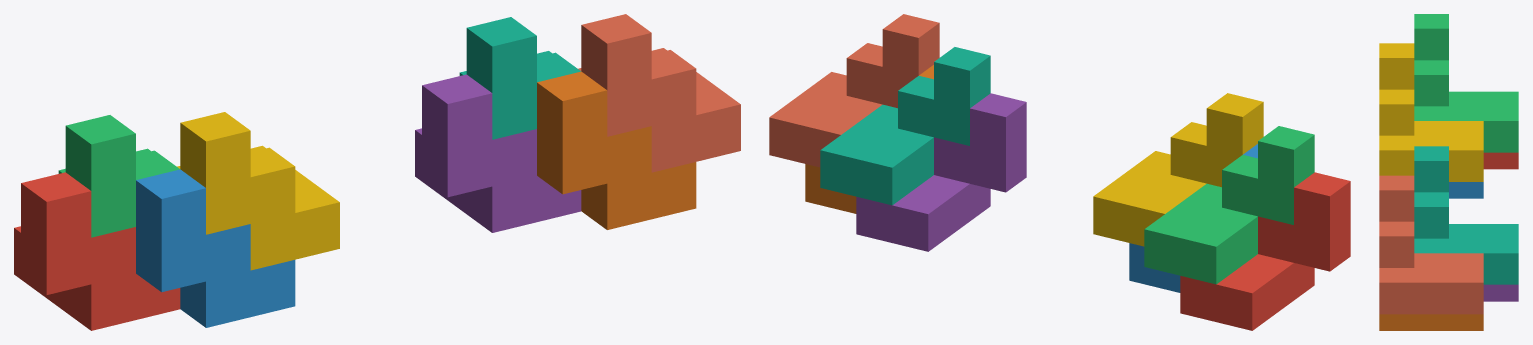
The model's file is tiling.obj.
3 renders of one model, left to right at view 1: azimuth 30°, elevation 25°; view 2: azimuth 150°, elevation 25°; view 3: azimuth 270°, elevation 25°, orthographic. The views are drawn at different scales.
Parts seen in each view (by area): view 1: copy_1_domain_6, copy_1_domain_2, copy_1_domain_1, copy_1_domain_5, copy_1_domain_8, copy_1_domain_4, copy_1_domain_7, copy_1_domain_3; view 2: copy_1_domain_7, copy_1_domain_3, copy_1_domain_5, copy_1_domain_1, copy_1_domain_8, copy_1_domain_4, copy_1_domain_6, copy_1_domain_2; view 3: copy_1_domain_8, copy_1_domain_4, copy_1_domain_3, copy_1_domain_7, copy_1_domain_6, copy_1_domain_5, copy_1_domain_1, copy_1_domain_2.
Boxes of the visible parts, bbox=[...] form: copy_1_domain_6: bbox=[537, 71, 696, 229]; copy_1_domain_2: bbox=[136, 169, 295, 327]; copy_1_domain_1: bbox=[14, 172, 180, 330]; copy_1_domain_5: bbox=[415, 74, 581, 232]; copy_1_domain_8: bbox=[578, 14, 740, 172]; copy_1_domain_4: bbox=[177, 112, 339, 270]; copy_1_domain_7: bbox=[459, 17, 580, 139]; copy_1_domain_3: bbox=[58, 115, 179, 237]; copy_1_domain_7: bbox=[820, 47, 990, 205]; copy_1_domain_3: bbox=[1144, 126, 1314, 284]; copy_1_domain_5: bbox=[856, 93, 1026, 251]; copy_1_domain_1: bbox=[1180, 172, 1350, 330]; copy_1_domain_8: bbox=[769, 14, 939, 167]; copy_1_domain_4: bbox=[1093, 93, 1263, 246]; copy_1_domain_6: bbox=[805, 65, 933, 213]; copy_1_domain_2: bbox=[1129, 144, 1257, 292]; copy_1_domain_8: bbox=[1379, 175, 1483, 314]; copy_1_domain_4: bbox=[1379, 43, 1483, 181]; copy_1_domain_3: bbox=[1414, 14, 1518, 152]; copy_1_domain_7: bbox=[1414, 146, 1518, 284]; copy_1_domain_6: bbox=[1379, 314, 1483, 330]; copy_1_domain_5: bbox=[1483, 284, 1518, 301]; copy_1_domain_1: bbox=[1483, 152, 1518, 169]; copy_1_domain_2: bbox=[1449, 182, 1483, 198].
Bounding box in the file's own units: 15 × 4 × 4.
